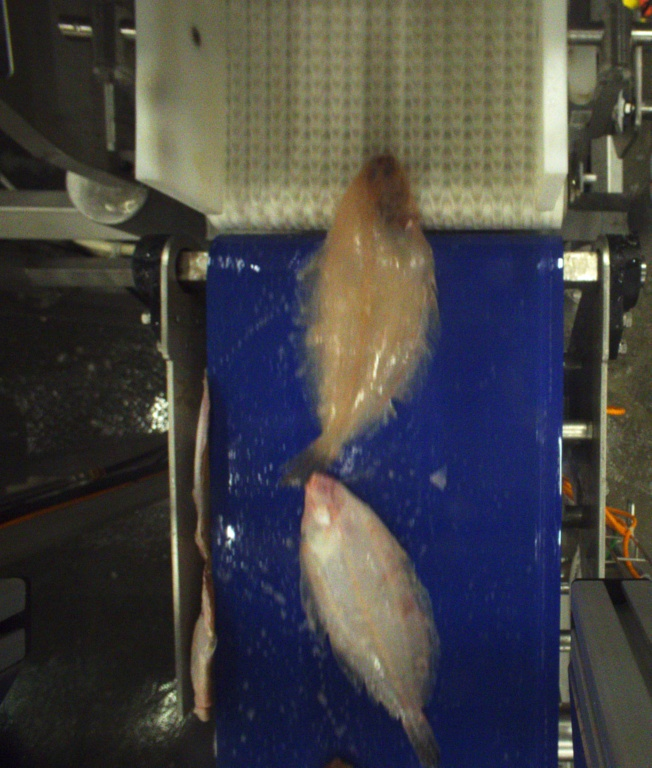WIT: (301, 470, 445, 768)
